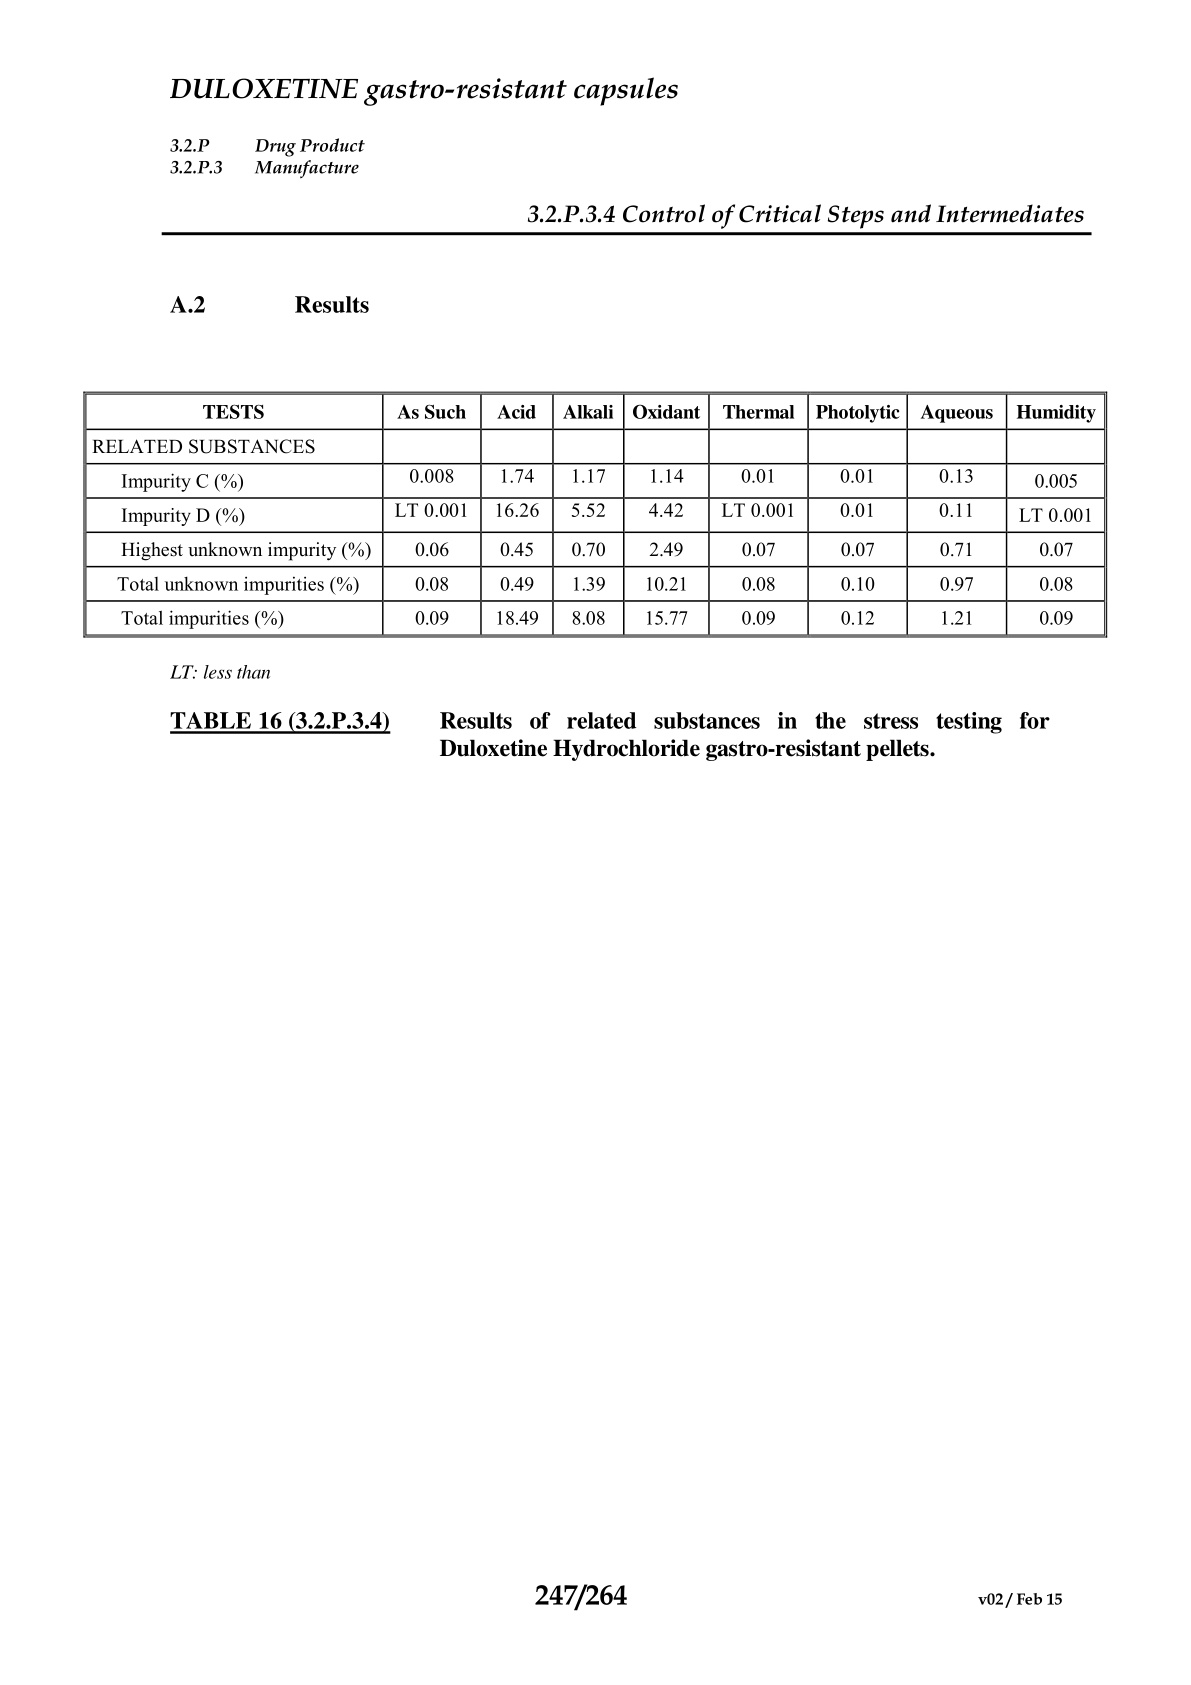full_lined: (82, 392, 1109, 639)
